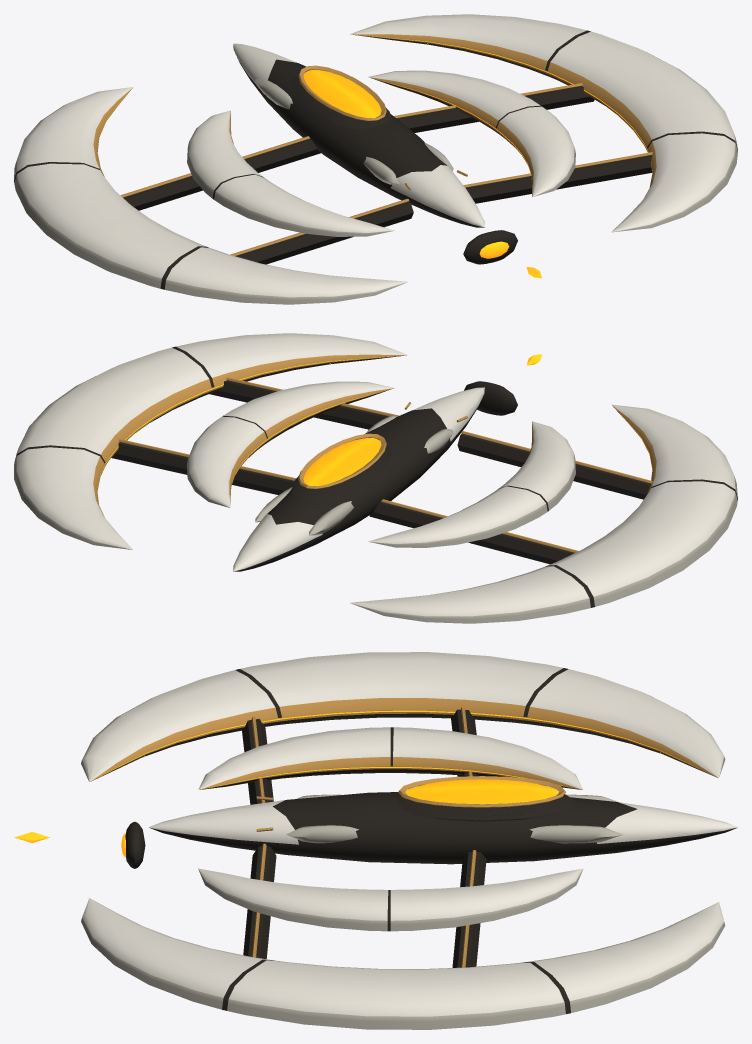
Rendered from 04_kreuzer.glb.
The picture shows the model from 3 angles, top to bottom: view 1: azimuth 30°, elevation 25°; view 2: azimuth 150°, elevation 25°; view 3: azimuth 270°, elevation 25°; orthographic projection. The views are drawn at different scales.
Parts seen in each view (by area): view 1: Hull, energy_1, energy_2; view 2: Hull, energy_1, energy_2; view 3: Hull, energy_1, energy_2.
Part boxes in pixels (<box>): Hull: <box>14,14,737,304</box>; energy_1: <box>295,65,389,127</box>; energy_2: <box>463,230,517,264</box>; Hull: <box>14,333,737,623</box>; energy_1: <box>295,433,389,495</box>; energy_2: <box>464,381,517,415</box>; Hull: <box>81,652,737,1029</box>; energy_1: <box>398,776,569,816</box>; energy_2: <box>121,821,145,868</box>.
Size of the model in its own units: 19.06 by 1.87 by 16.
